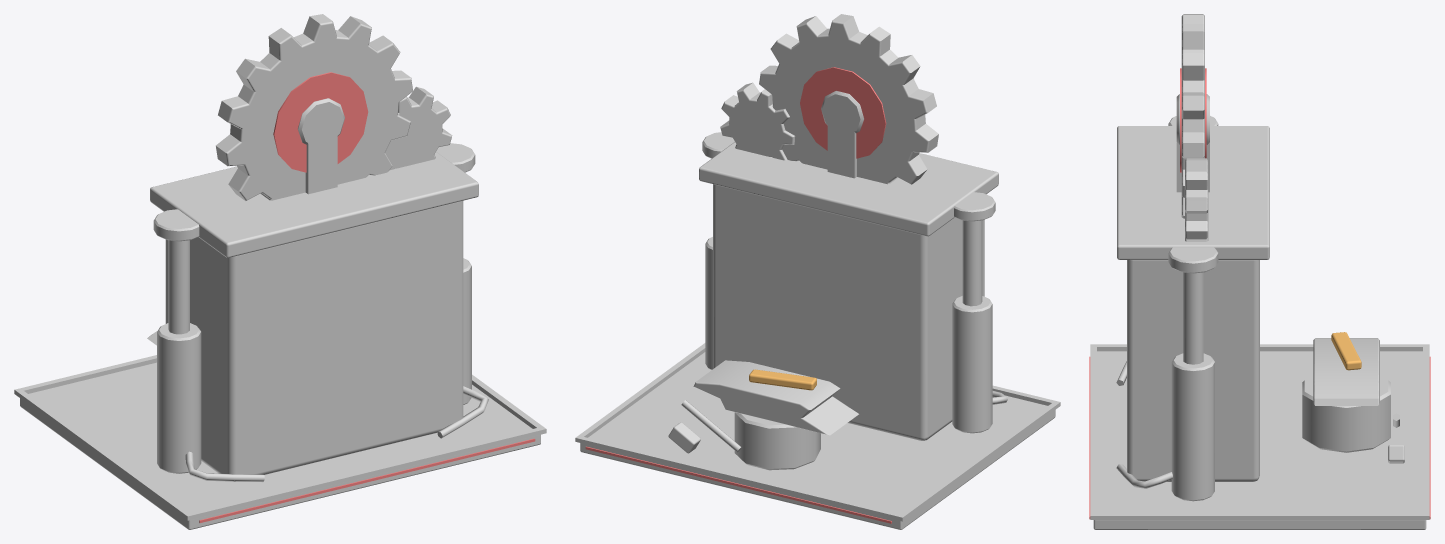
The model's file is UpgradeStation.glb.
3 views of the same model, side by side, from view 1: azimuth 30°, elevation 25°; view 2: azimuth 150°, elevation 25°; view 3: azimuth 270°, elevation 25° (orthographic). The views are drawn at different scales.
Parts seen in each view (by area): view 1: Body, Glow; view 2: Body, Glow, Hot; view 3: Body, Glow, Hot.
Boxes of the visible parts, box(x1,y1,x2,y2) form: Body: box(14, 14, 546, 529); Glow: box(199, 72, 535, 522); Body: box(575, 14, 1060, 529); Glow: box(585, 67, 891, 523); Hot: box(749, 369, 816, 390); Body: box(1090, 14, 1429, 529); Glow: box(1089, 68, 1430, 519); Hot: box(1331, 332, 1361, 370).
Size of the model in its own units: 12.2 by 13.98 by 10.26.
